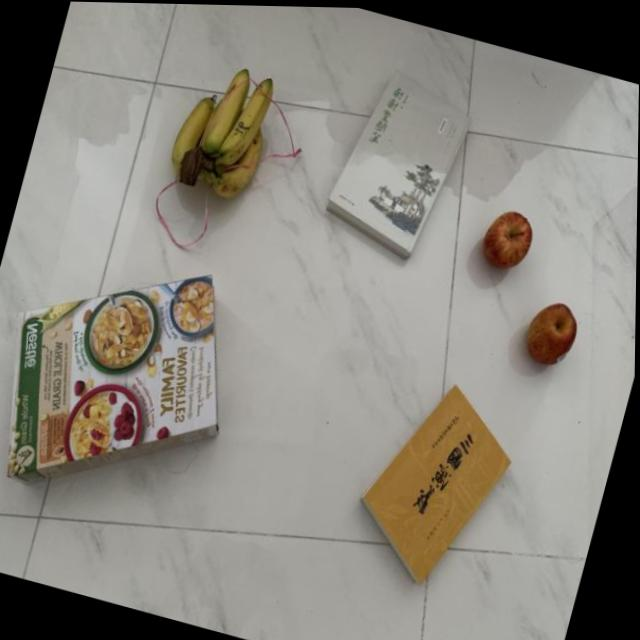Apple: (510, 281, 596, 382), (461, 182, 547, 282)
Banana: (137, 41, 297, 216)
Book: (336, 360, 531, 605), (310, 56, 485, 272)
Cerealbox: (0, 210, 268, 551)
